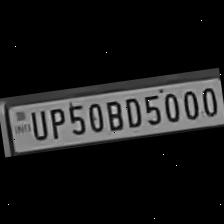0: (158, 88, 181, 124), (83, 98, 106, 133), (196, 83, 219, 118), (178, 86, 201, 120)
5: (64, 100, 88, 136), (139, 90, 163, 126)
B: (101, 95, 125, 131)
D: (120, 92, 144, 128)
P: (44, 103, 68, 139)
U: (26, 106, 48, 140)
